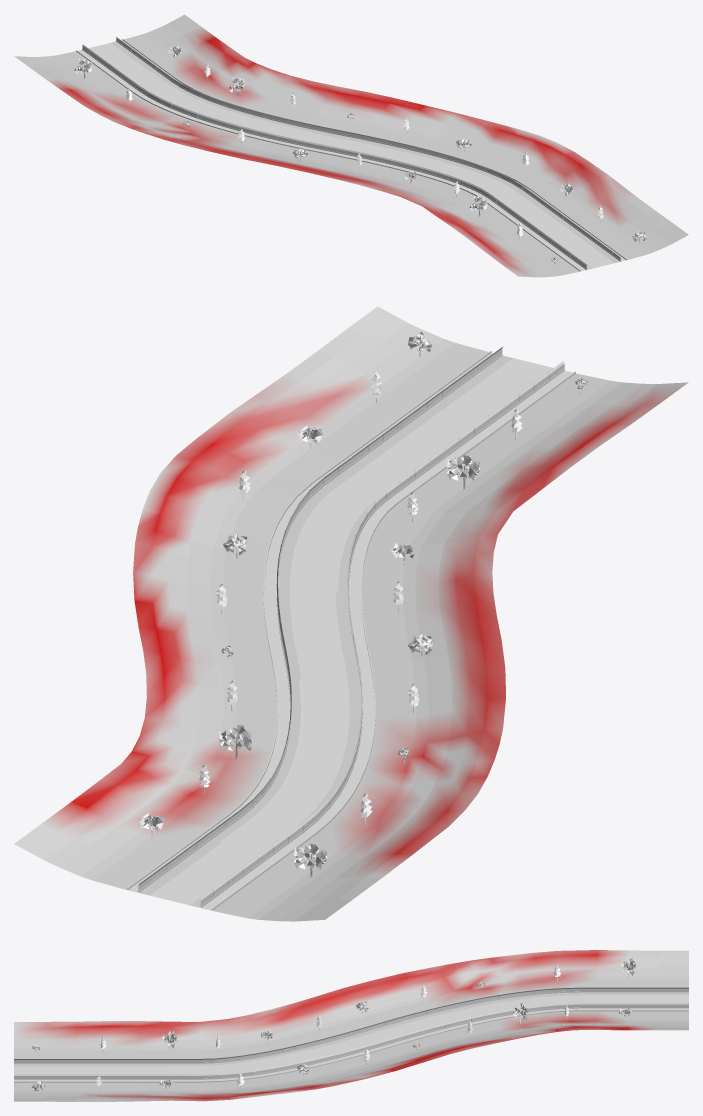
3 views of the same model, one above another, from view 1: azimuth 30°, elevation 25°; view 2: azimuth 150°, elevation 25°; view 3: azimuth 270°, elevation 25° (orthographic). The views are drawn at different scales.
Parts seen in each view (by area): view 1: Grass, Road, Track, Wirefence, Trees; view 2: Grass, Road, Track, Wirefence, Trees; view 3: Grass, Road, Wirefence, Track, Trees.
Part boxes in pixels (x1=…): Grass: x1=14, y1=14, x2=688, y2=277; Road: x1=89, y1=43, x2=613, y2=268; Track: x1=76, y1=36, x2=626, y2=271; Wirefence: x1=82, y1=37, x2=620, y2=268; Trees: x1=74, y1=45, x2=646, y2=265; Grass: x1=14, y1=306, x2=688, y2=921; Road: x1=150, y1=358, x2=552, y2=904; Track: x1=127, y1=351, x2=575, y2=910; Wirefence: x1=138, y1=347, x2=564, y2=905; Trees: x1=139, y1=331, x2=587, y2=877; Grass: x1=14, y1=950, x2=688, y2=1101; Road: x1=14, y1=995, x2=688, y2=1074; Wirefence: x1=14, y1=987, x2=688, y2=1078; Track: x1=14, y1=988, x2=688, y2=1082; Trees: x1=31, y1=958, x2=635, y2=1093.
Size of what is drawn, in the model's own units: 26501 by 1702 by 50000.
